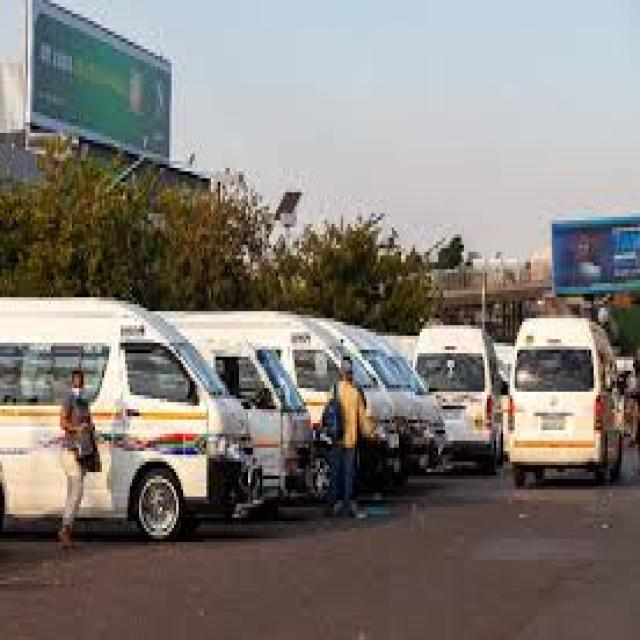MiniBus taxi: (2, 290, 258, 542), (505, 304, 624, 493), (406, 322, 501, 489)
Pedestrians: (318, 350, 380, 528)
